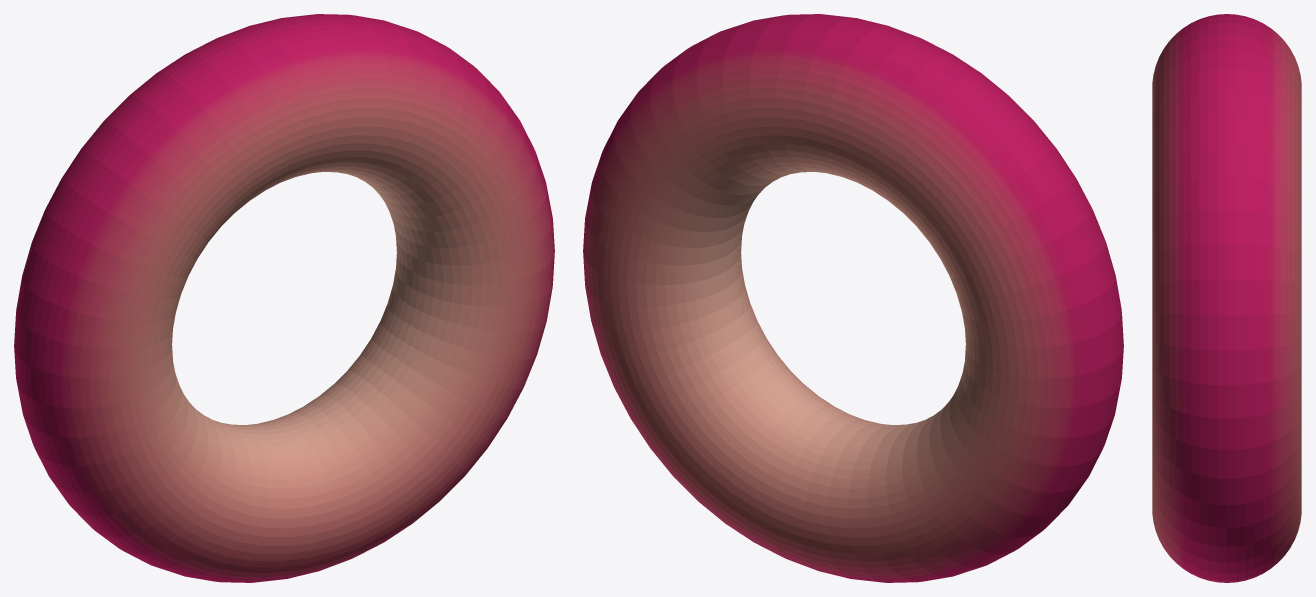
3 views of the same model, side by side, from view 1: azimuth 30°, elevation 25°; view 2: azimuth 150°, elevation 25°; view 3: azimuth 270°, elevation 25° (orthographic). The views are drawn at different scales.
Visible parts, largest first — view 1: world; view 2: world; view 3: world.
Boxes of the visible parts, x1=… form: world: x1=14, y1=14, x2=554, y2=582; world: x1=583, y1=14, x2=1123, y2=582; world: x1=1152, y1=14, x2=1301, y2=582.
Bounding box in the file's own units: 29.87 × 29.81 × 7.85.
